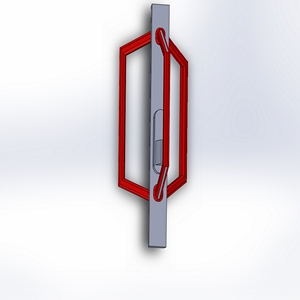submarine: (103, 1, 203, 262)
